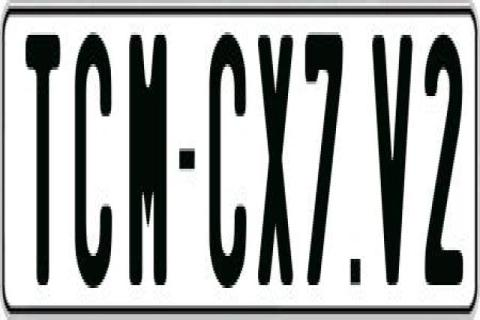0: (424, 29, 468, 291), (303, 29, 341, 294)
C: (73, 35, 118, 294), (208, 32, 252, 291)
M: (128, 32, 169, 291)
T: (26, 35, 64, 294)
V: (372, 29, 416, 279)
X: (256, 29, 298, 291)
